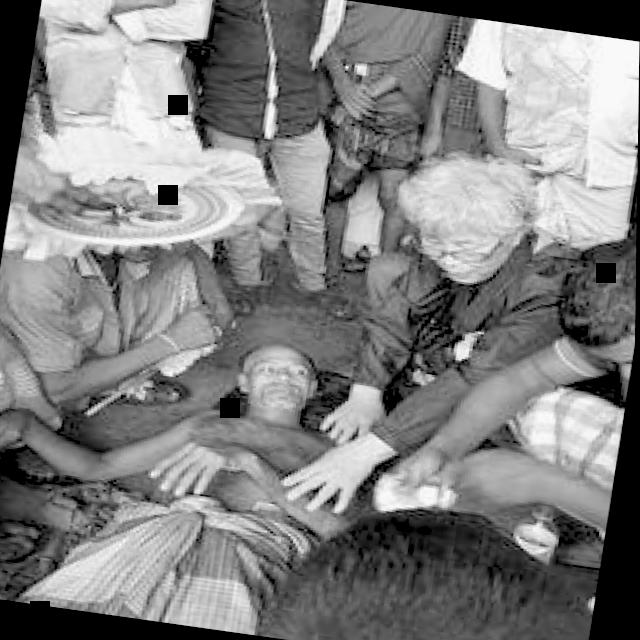Fall-Detected: (0, 279, 391, 640)
